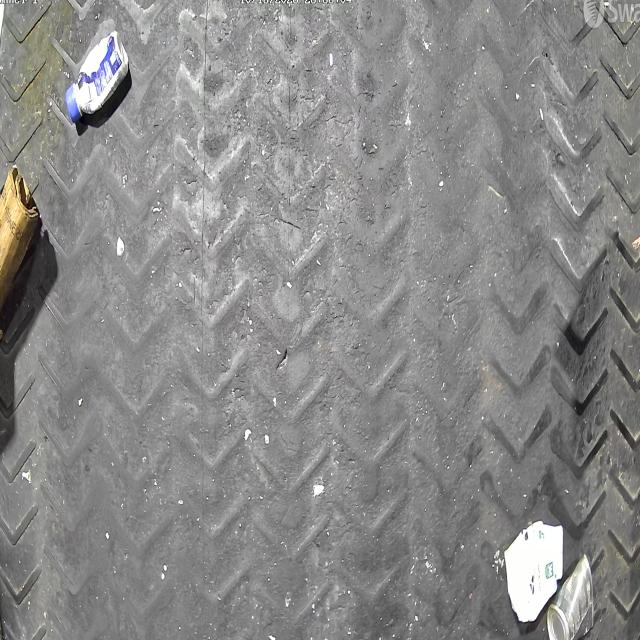can: (546, 554, 595, 640)
